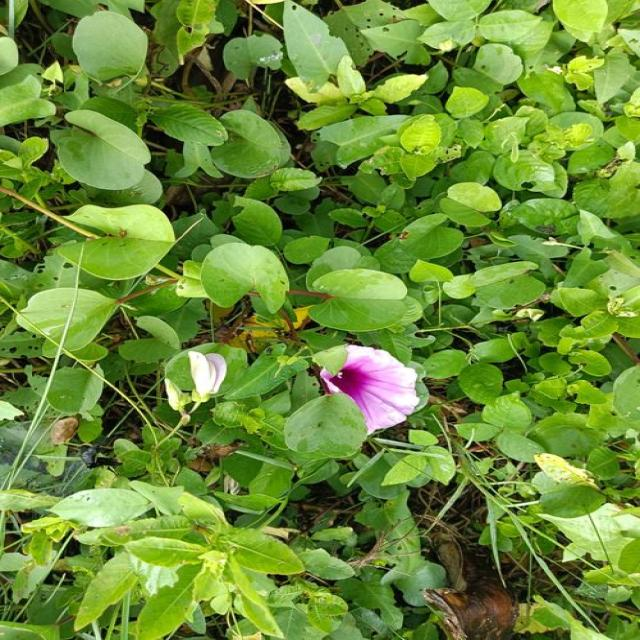ipomoea: (314, 342, 424, 438), (158, 348, 232, 417)
